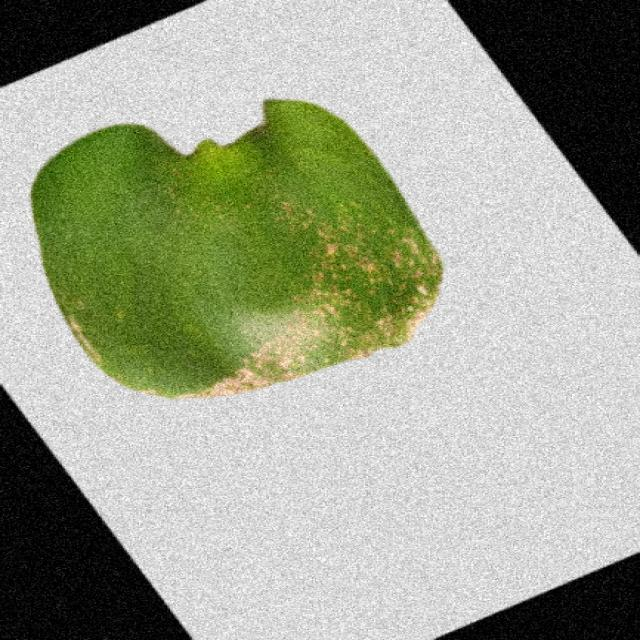daun berpenyakit bercak: (33, 100, 441, 398)
